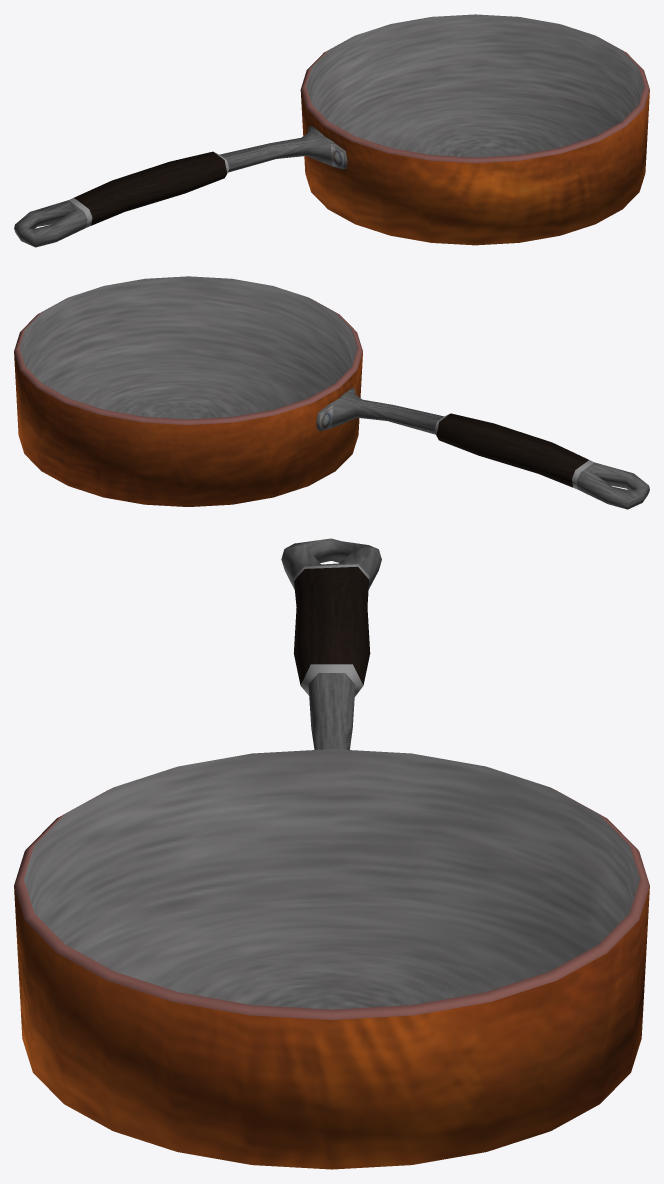
File: SautePan.fbx
The picture shows the model from 3 angles, top to bottom: view 1: azimuth 30°, elevation 25°; view 2: azimuth 150°, elevation 25°; view 3: azimuth 270°, elevation 25°; orthographic projection. The views are drawn at different scales.
Parts seen in each view (by area): view 1: SautePan_LOD0; view 2: SautePan_LOD0; view 3: SautePan_LOD0.
Boxes of the visible parts, left/top/right/bottom form: SautePan_LOD0: left=14, top=14, right=649, bottom=247; SautePan_LOD0: left=14, top=276, right=649, bottom=509; SautePan_LOD0: left=14, top=538, right=649, bottom=1169.
Size of what is drawn, in the model's own units: 160 by 22.01 by 79.63.
